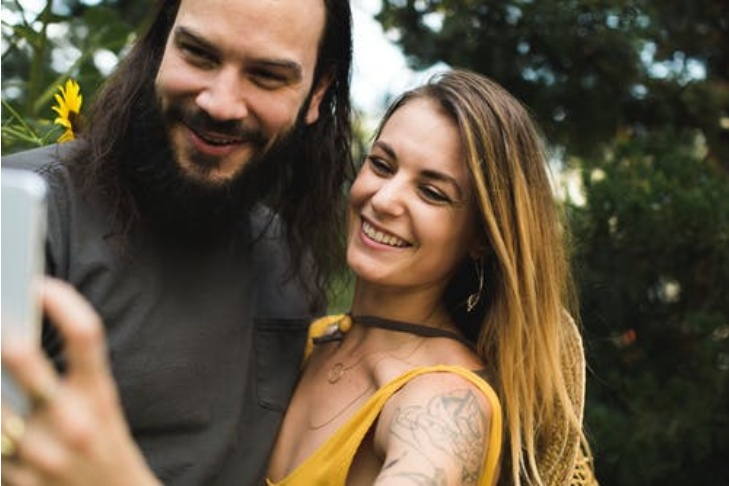face: (154, 1, 326, 187), (350, 99, 463, 283)
